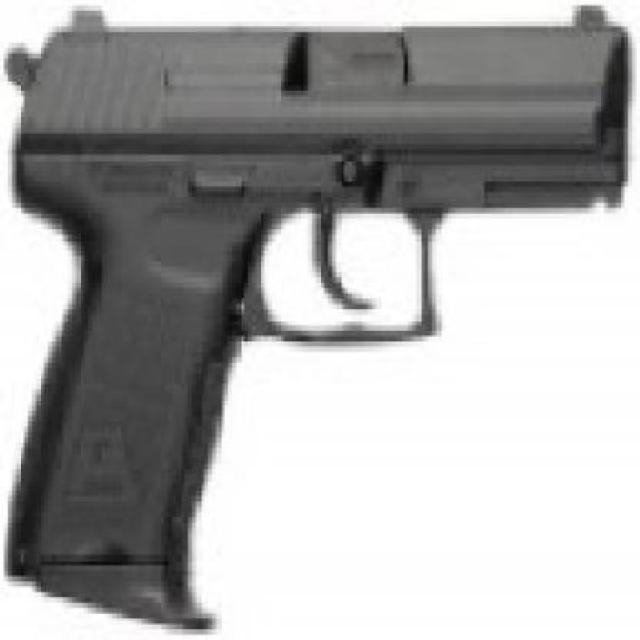gun: (4, 5, 620, 613)
